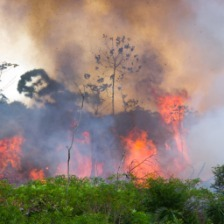incendio: (1, 126, 173, 190), (155, 74, 216, 185)
